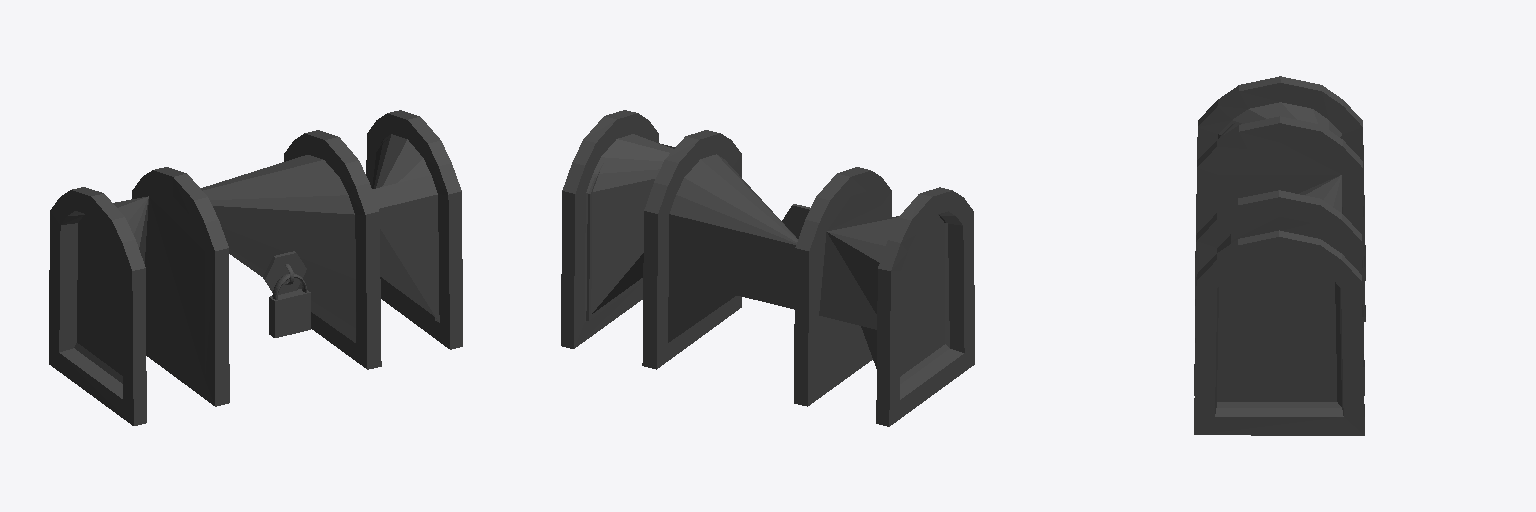
Rendered from Chest.obj.
The picture shows the model from 3 angles: view 1: azimuth 30°, elevation 25°; view 2: azimuth 150°, elevation 25°; view 3: azimuth 270°, elevation 25°; orthographic projection.
Parts seen in each view (by area): view 1: Cofre2; view 2: Cofre2; view 3: Cofre2.
Boxes of the visible parts, <box> form: Cofre2: <box>49,110,462,425</box>; Cofre2: <box>561,110,974,426</box>; Cofre2: <box>1194,76,1365,435</box>.
Size of the model in its own units: 91.25 by 52.64 by 41.31.